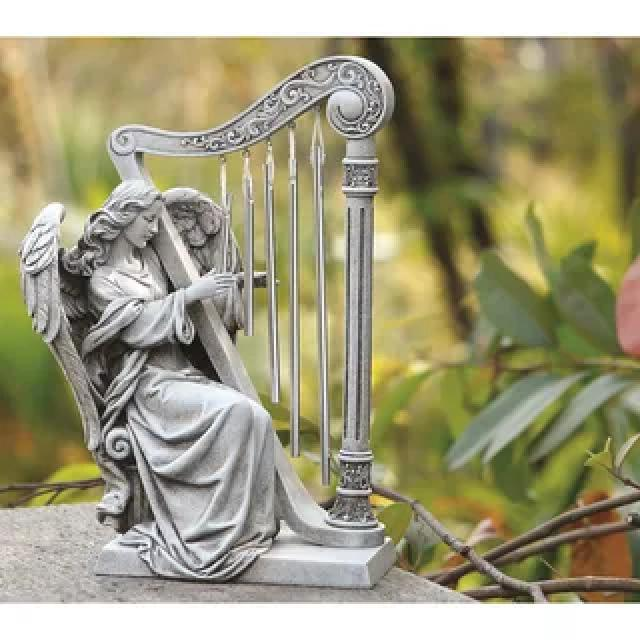angel: (17, 52, 420, 606)
